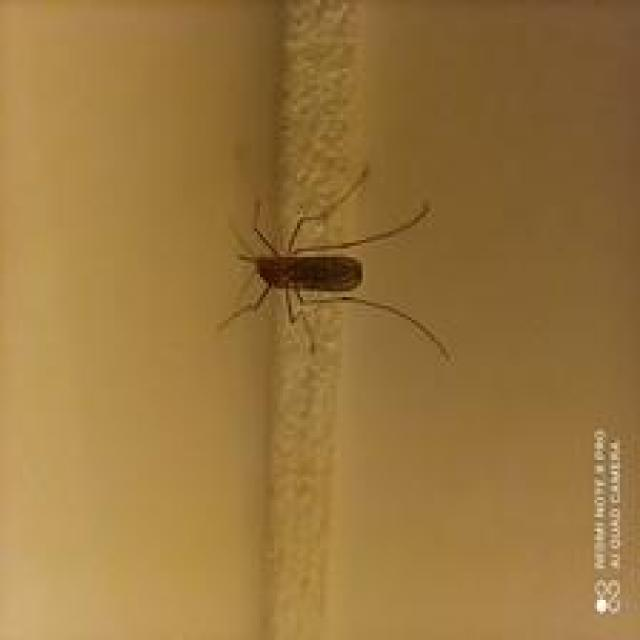Culex: (216, 163, 453, 366)
